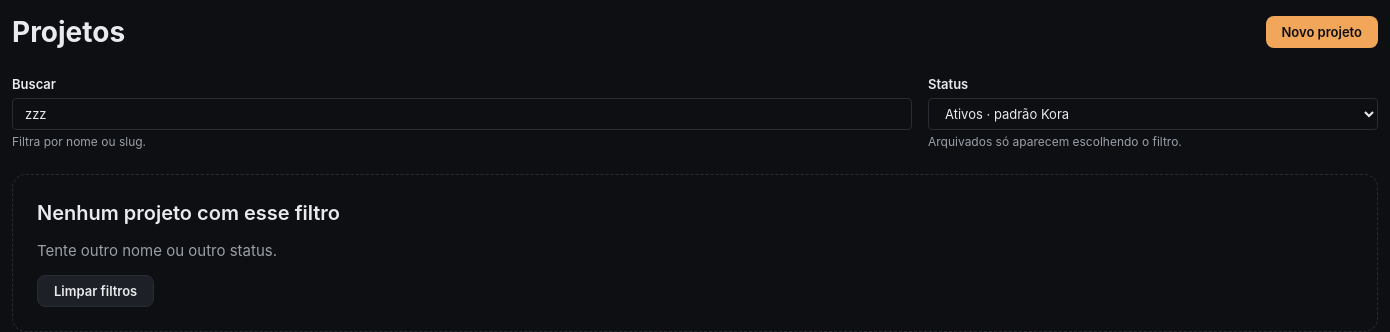
it: PaginaRegistry › busca sem resultado mostra o estado próprio e limpar filtros volta ao padrão
(page scrolled)
Expected: the heading "Nenhum projeto com esse filtro" is shown, [37,199,340,227]
What coordinates should you click on to do the following:
click the button "Limpar filtros"
I would click on:
 (96, 291)
Its box is [37,275,154,307].
(page scrolled)
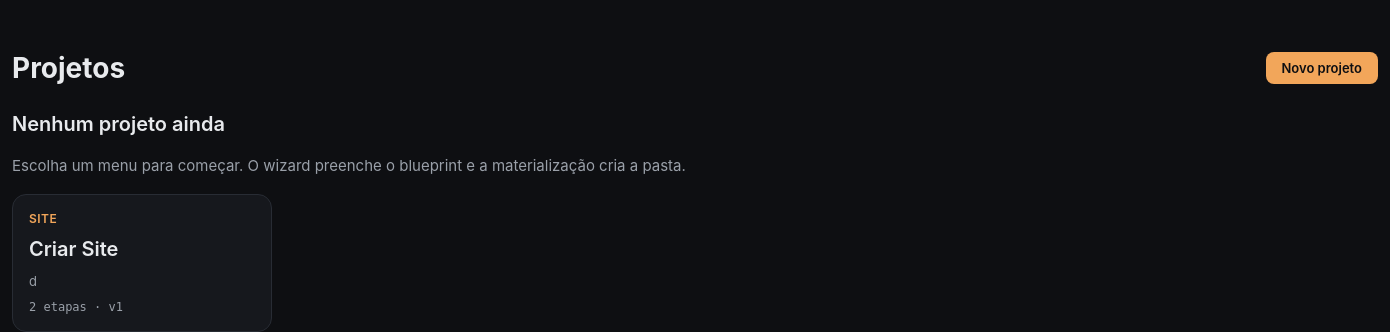
Now the heading "Nenhum projeto ainda" is shown, box [12,112,225,136]
